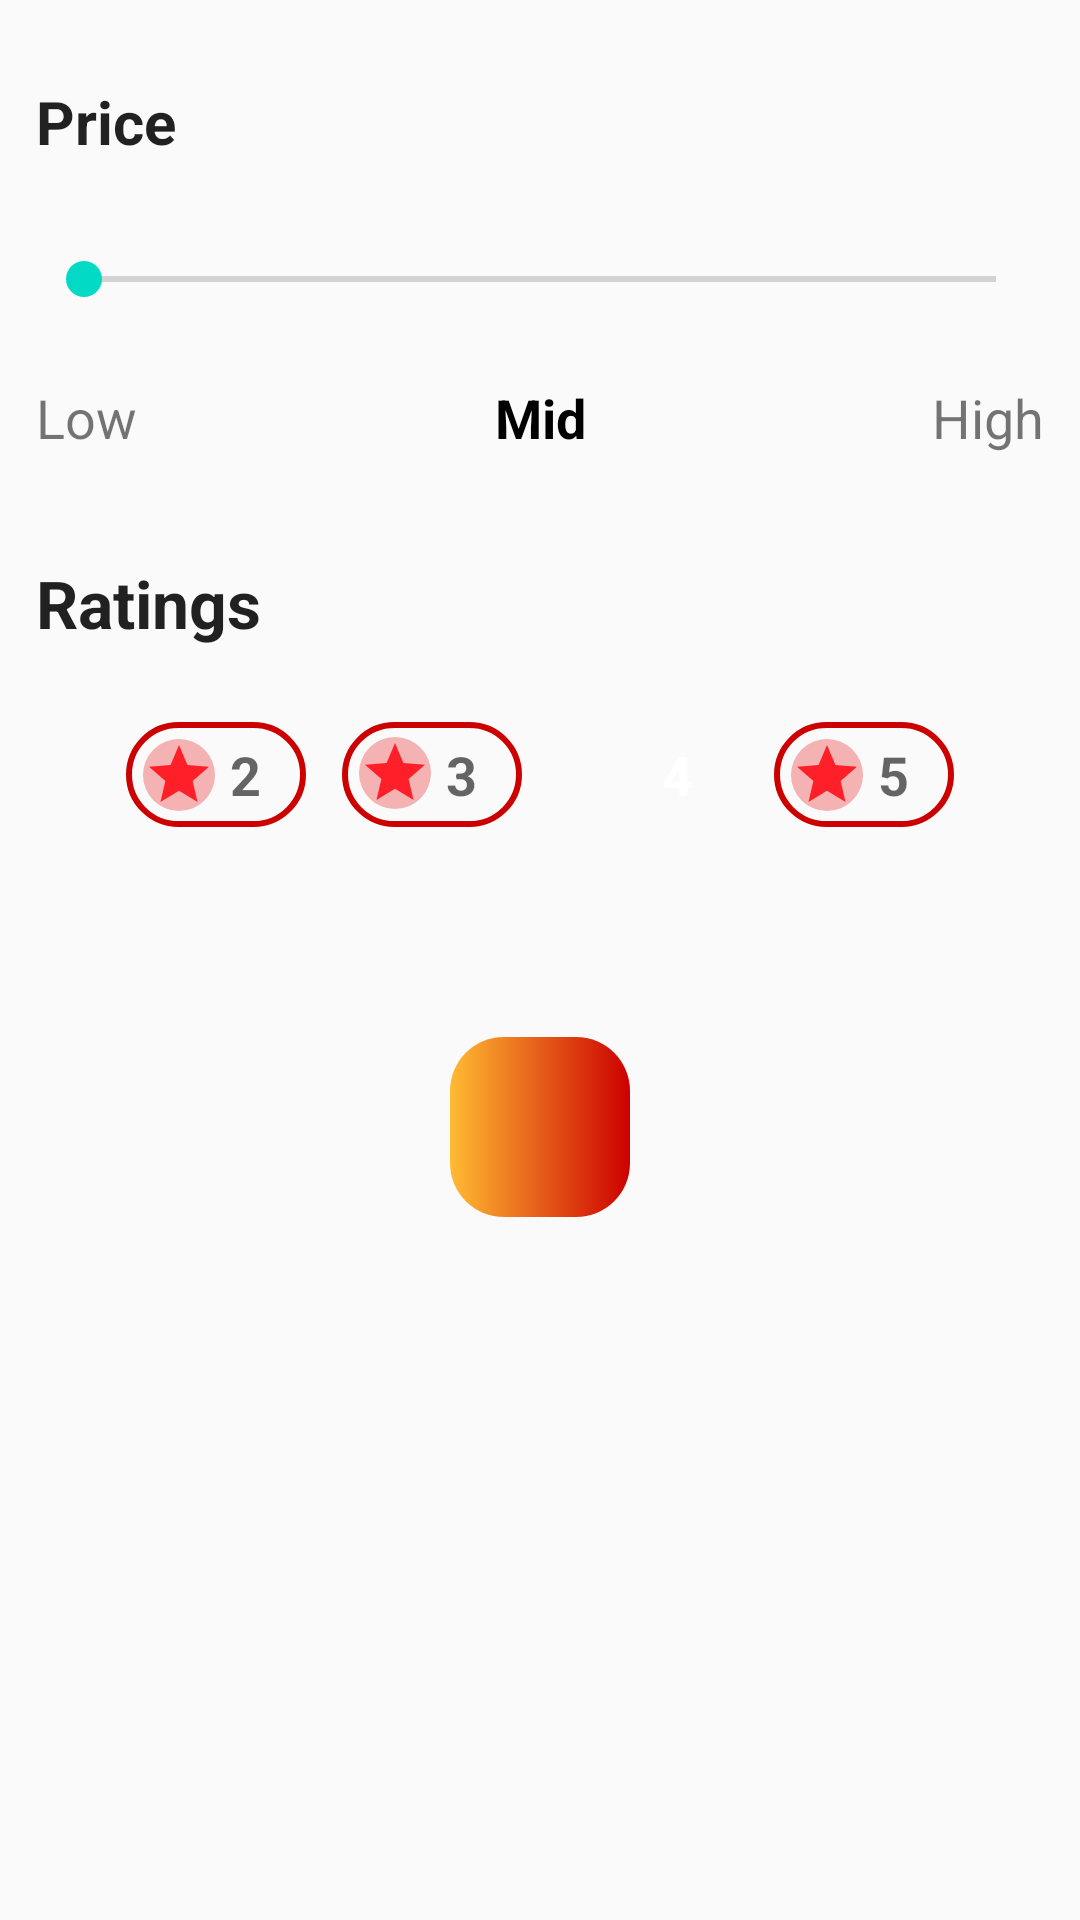

Named icons in this screenshot (1080px x 1920px) and their centers, (x=x, y=y):
star: (x=395, y=773), (x=179, y=775), (x=827, y=775)
